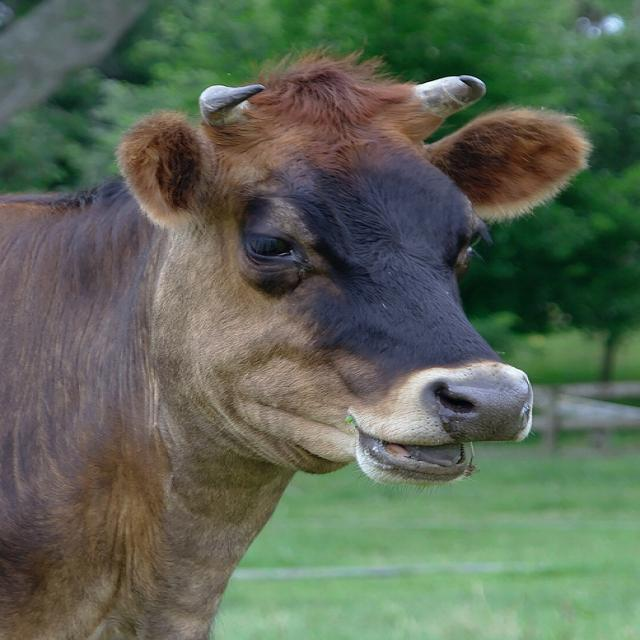cow: (1, 56, 588, 631)
